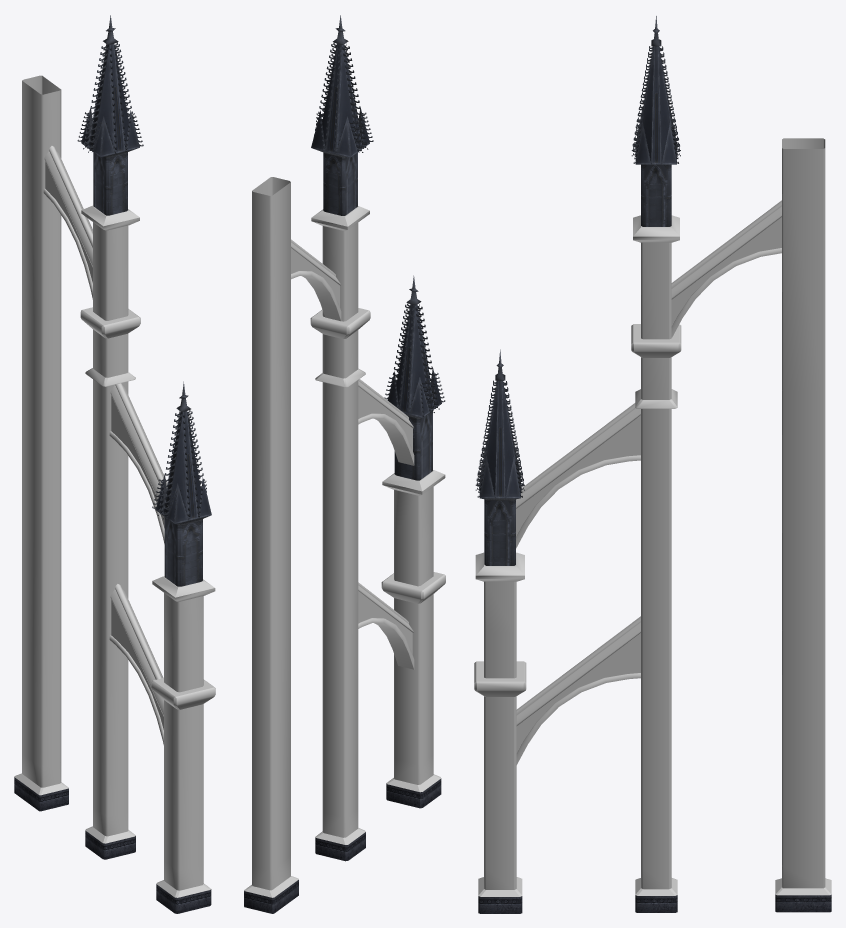
Rendered from wall1.dae.
3 renders of one model, left to right at view 1: azimuth 30°, elevation 25°; view 2: azimuth 150°, elevation 25°; view 3: azimuth 270°, elevation 25°, orthographic. The views are drawn at different scales.
Parts seen in each view (by area): view 1: wall01Shape-P1, wall01Shape-P2, wall01Shape-P3, wall01Shape-P0, wall01Shape-P4; view 2: wall01Shape-P1, wall01Shape-P2, wall01Shape-P3, wall01Shape-P0, wall01Shape-P4; view 3: wall01Shape-P1, wall01Shape-P2, wall01Shape-P3, wall01Shape-P4, wall01Shape-P0.
Boxes of the visible parts, x1,y1,x2,y2 form: wall01Shape-P1: (22,75,203,890); wall01Shape-P2: (81,15,211,586); wall01Shape-P3: (14,205,215,897); wall01Shape-P0: (77,42,207,523); wall01Shape-P4: (14,777,211,913); wall01Shape-P1: (252,177,433,890); wall01Shape-P2: (311,15,441,480); wall01Shape-P3: (244,206,445,897); wall01Shape-P0: (314,42,445,416); wall01Shape-P4: (244,778,441,913); wall01Shape-P1: (484,138,825,889); wall01Shape-P2: (479,16,676,565); wall01Shape-P3: (474,215,831,896); wall01Shape-P4: (478,894,831,913); wall01Shape-P0: (475,46,680,498).
Bounding box in the file's own units: 1.17 × 18.53 × 6.74.
